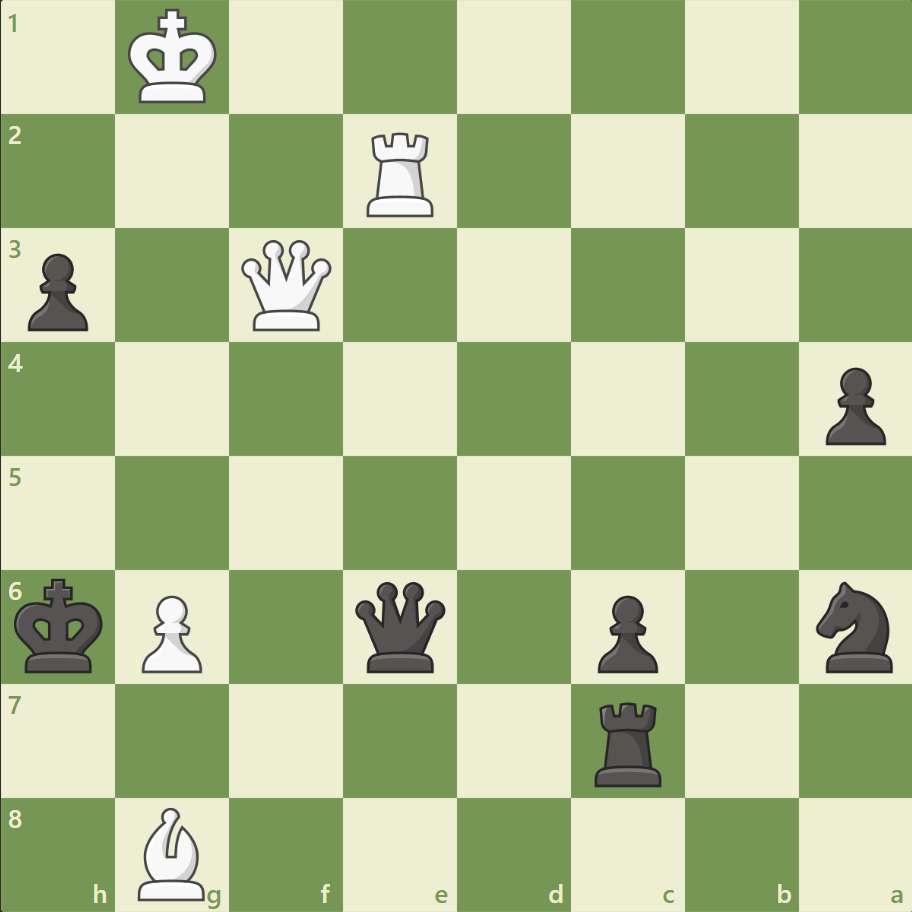B: (131, 801, 215, 904)
K: (124, 4, 224, 112)
P: (133, 586, 208, 677)
Q: (237, 236, 336, 335)
R: (360, 125, 442, 222)
k: (11, 571, 111, 679)
n: (806, 575, 903, 677)
p: (20, 246, 95, 337), (588, 586, 662, 677), (815, 359, 889, 450)
q: (351, 576, 450, 676)
r: (587, 693, 670, 790)
